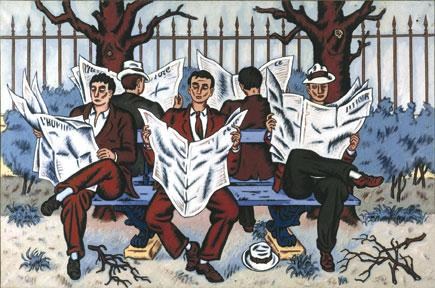person: (265, 60, 383, 271), (33, 73, 138, 284), (142, 67, 244, 284), (226, 67, 282, 184), (111, 60, 168, 128)
